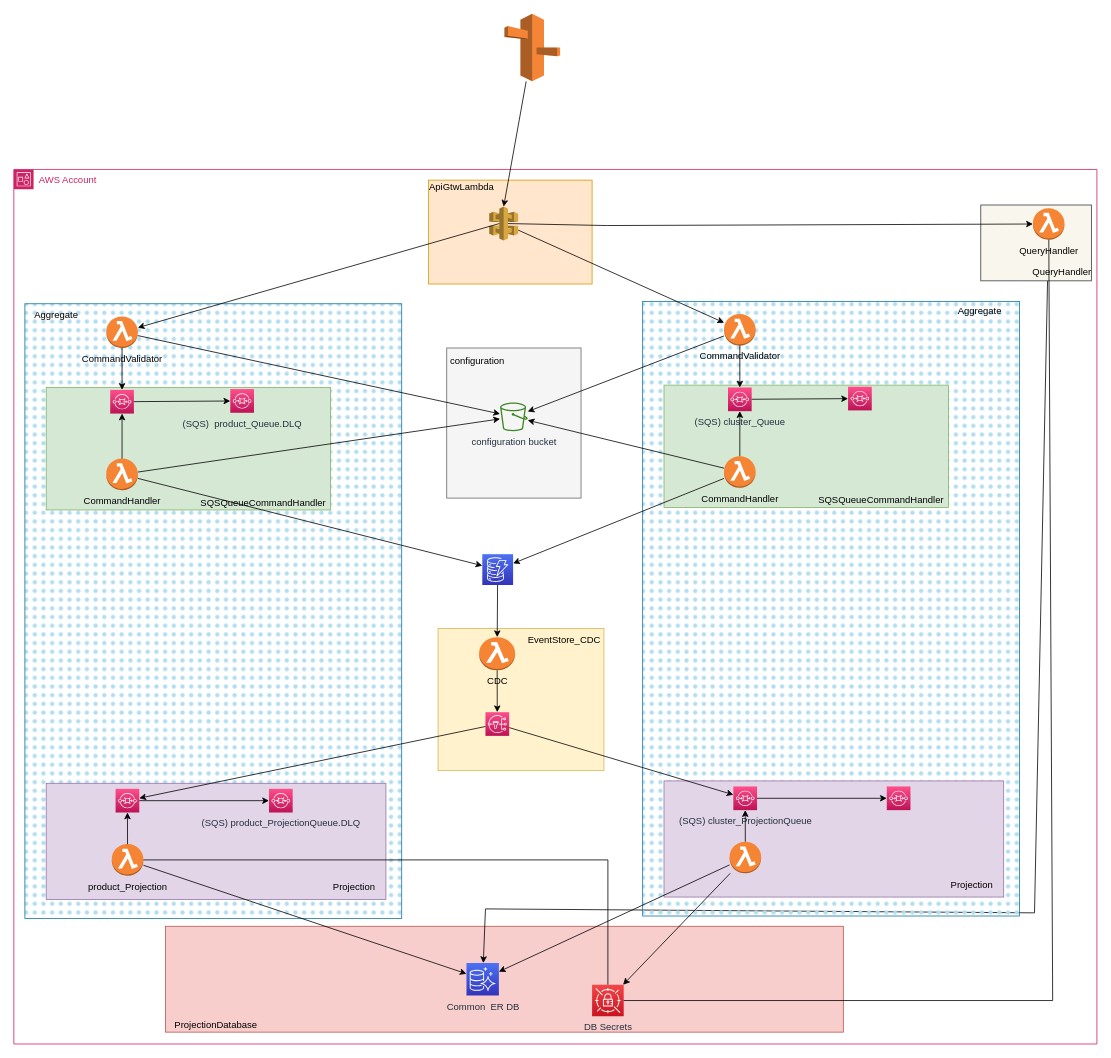
The diagram is 1111 pixels wide and 1058 high, and some of its shapes have lost their labels. Here are the shapes that lost their labels. From the top down, the centre of each, then its label:
At point 503,223: "LogisticBackboneAPIs".
At point 121,401: "(SQS) product_Queue".
At point 859,398: "(SQS) cluster_Queue.DLQ".
At point 497,569: "common_EventStore".
At point 497,723: "(SNS) common_eventTopic".
At point 127,800: "(SQS) product_ProjectionQueue".
At point 898,798: "(SQS) cluster_ProjectionQueue.DLQ".
At point 745,857: "cluster_Projection".
